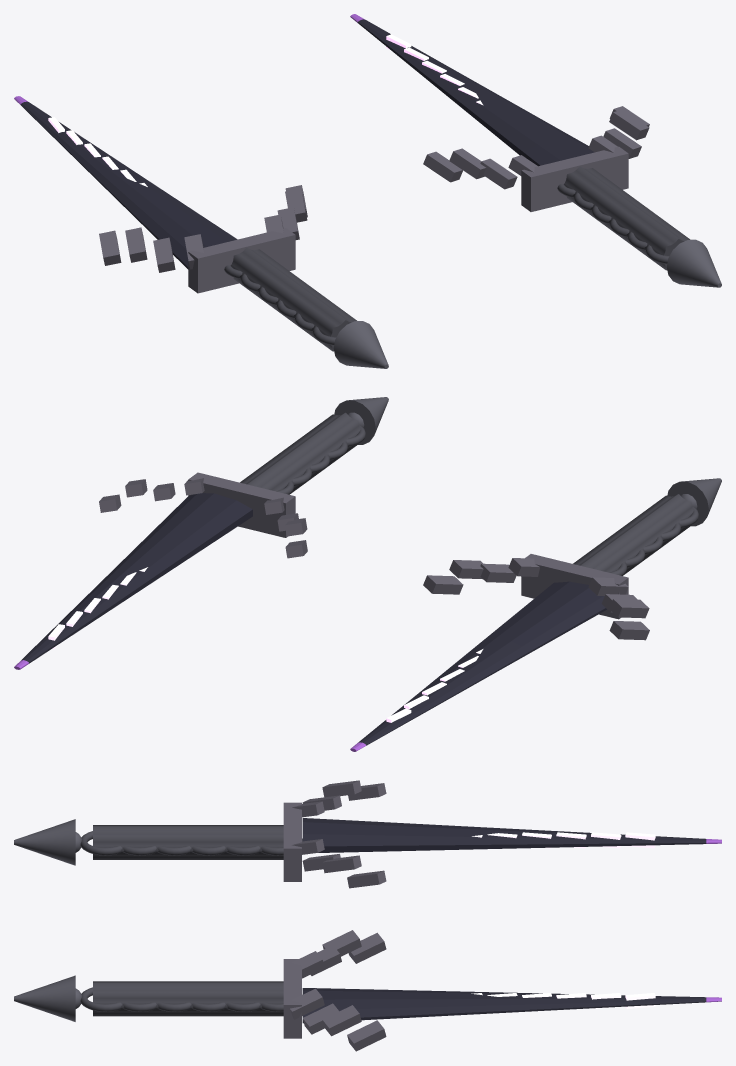
The model's file is art_abyssal_razor.fbx.
The picture shows the model from 3 angles, top to bottom: view 1: azimuth 30°, elevation 25°; view 2: azimuth 150°, elevation 25°; view 3: azimuth 270°, elevation 25°; orthographic projection. The views are drawn at different scales.
Parts seen in each view (by area): view 1: Crossguard, CrossguardL, Blade, BladeL, Handle, HandleL, Pommel, PommelL, RuneInlay, RuneInlayL; view 2: Blade, BladeL, CrossguardL, Crossguard, HandleL, Handle, PommelL, Pommel, RuneInlayL, RuneInlay; view 3: BladeL, Handle, Blade, HandleL, Crossguard, CrossguardL, PommelL, Pommel, RuneInlayL, RuneInlay.
Part boxes in pixels (x1,y1,x2,y2): Crossguard: [423, 106, 649, 211]; CrossguardL: [99, 185, 307, 293]; Blade: [358, 19, 594, 166]; BladeL: [20, 101, 237, 269]; Handle: [557, 166, 690, 270]; HandleL: [224, 247, 356, 351]; Pommel: [666, 239, 721, 287]; PommelL: [333, 321, 388, 368]; RuneInlay: [386, 34, 483, 105]; RuneInlayL: [48, 117, 147, 186]; Blade: [21, 493, 252, 663]; BladeL: [358, 581, 606, 745]; CrossguardL: [423, 554, 649, 640]; Crossguard: [99, 472, 307, 558]; HandleL: [573, 494, 698, 575]; Handle: [240, 412, 365, 494]; PommelL: [667, 478, 721, 526]; Pommel: [334, 397, 388, 444]; RuneInlayL: [386, 649, 483, 729]; RuneInlay: [48, 567, 147, 648]; BladeL: [302, 818, 706, 852]; Handle: [80, 981, 302, 1016]; Blade: [302, 988, 706, 1023]; HandleL: [80, 825, 302, 859]; Crossguard: [283, 930, 386, 1051]; CrossguardL: [283, 780, 386, 888]; PommelL: [14, 819, 81, 865]; Pommel: [14, 975, 81, 1021]; RuneInlayL: [472, 832, 655, 848]; RuneInlay: [471, 993, 655, 1008].
Size of the model in its own units: 246 by 21.29 by 287.
